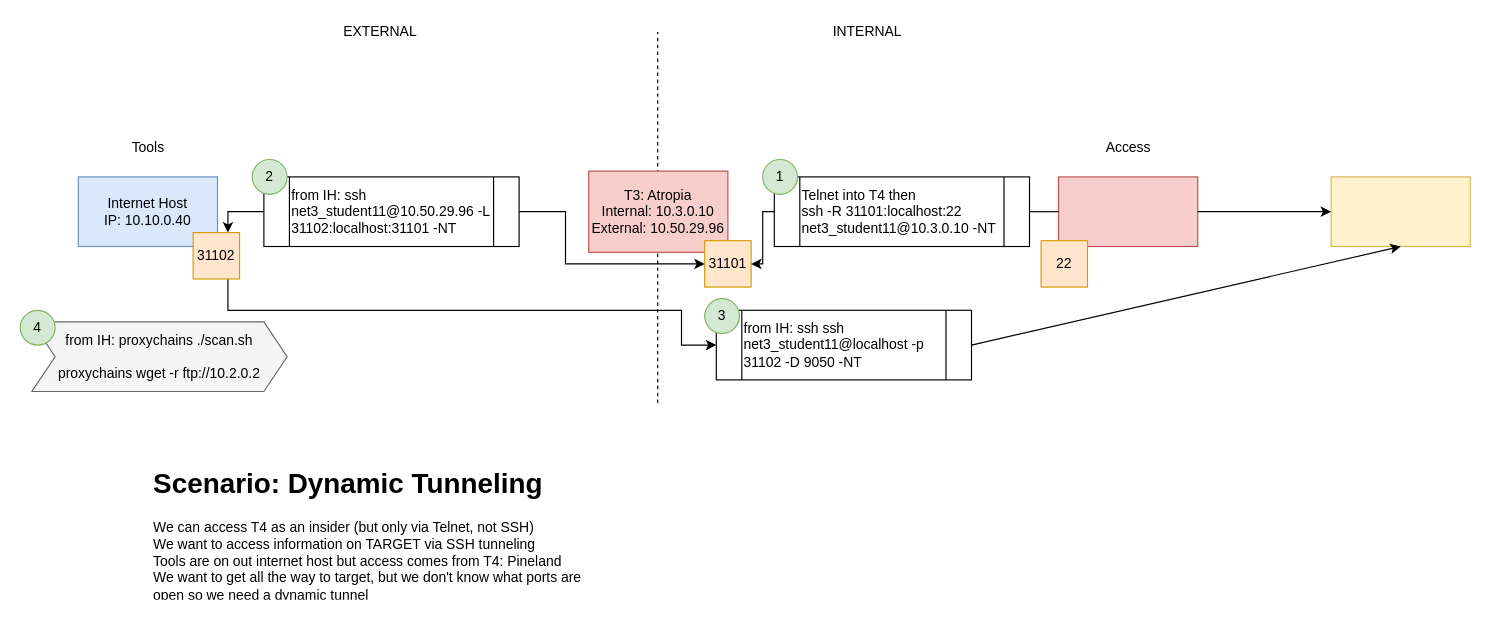
Some shapes in this 1491 by 622 pixel diagram are drawn without their labels. Each missing label, with the centre of its shape:
"T4: Pineland IP: 10.50.21.23" goes at point (1127, 211).
"TARGET: 10.2.0.2" goes at point (1400, 211).
